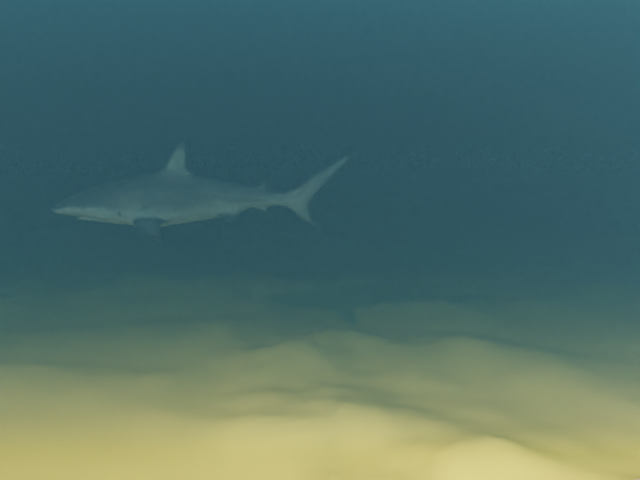Carribean Shark.001: (50, 141, 357, 241)
